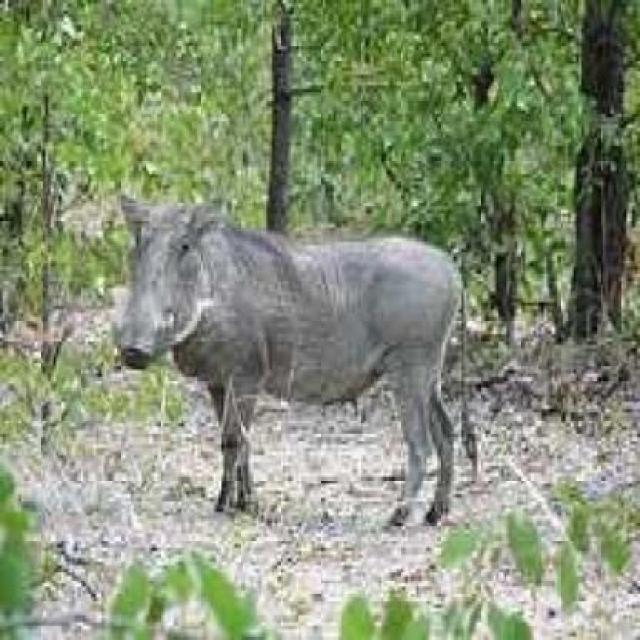Boar: (95, 125, 471, 529)
